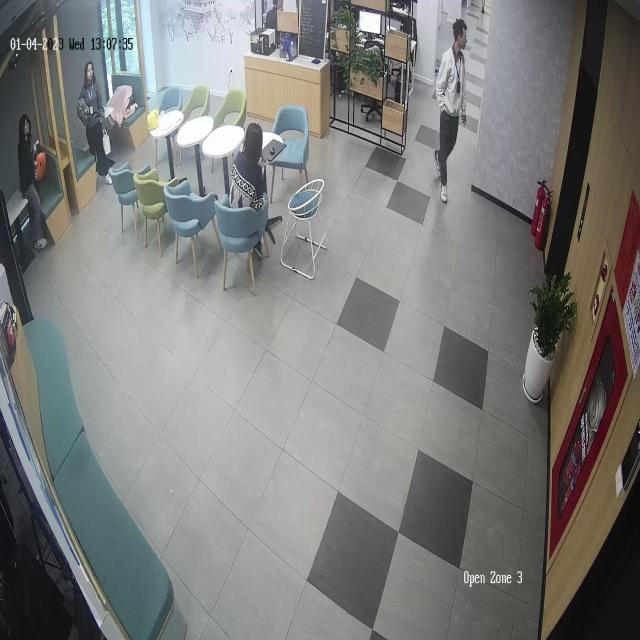person: (435, 18, 468, 205), (229, 121, 273, 259), (78, 62, 118, 184), (18, 113, 48, 253)
